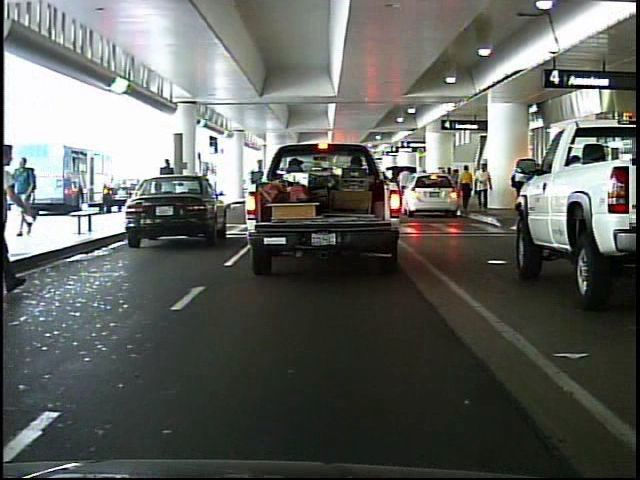person: (10, 154, 41, 238), (155, 154, 181, 219), (453, 160, 474, 220), (475, 156, 495, 214)
